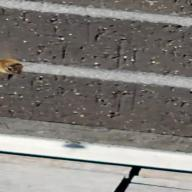Bee: (0, 57, 28, 85)
